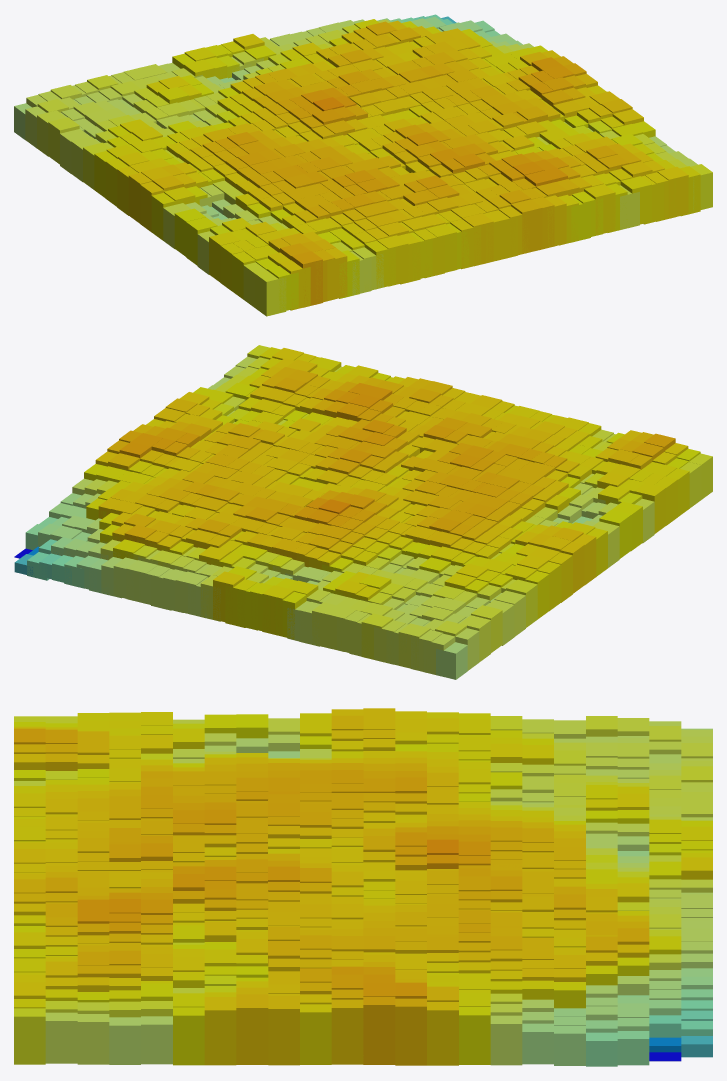
File: population.glb
3 renders of one model, top to bottom at view 1: azimuth 30°, elevation 25°; view 2: azimuth 150°, elevation 25°; view 3: azimuth 270°, elevation 25°, orthographic. The views are drawn at different scales.
Parts seen in each view (by area): view 1: population; view 2: population; view 3: population.
Boxes of the visible parts, left/top/right/bottom form: population: left=14, top=14, right=712, bottom=316; population: left=14, top=345, right=712, bottom=679; population: left=14, top=708, right=712, bottom=1066.
Size of the model in its own units: 2244 by 228 by 2199.
